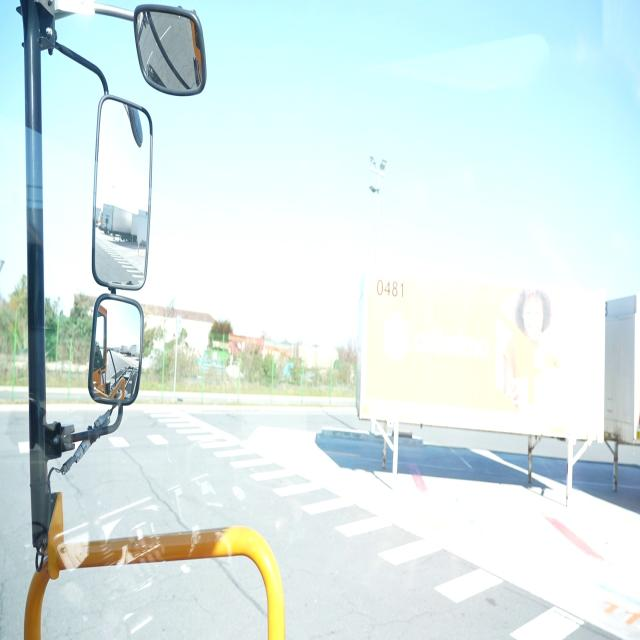Code: (373, 274, 406, 304)
